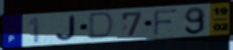1: (28, 15, 40, 44)
7: (120, 11, 143, 38)
9: (184, 5, 208, 35)
D: (86, 11, 116, 41)
F: (152, 8, 179, 37)
J: (55, 14, 78, 42)
